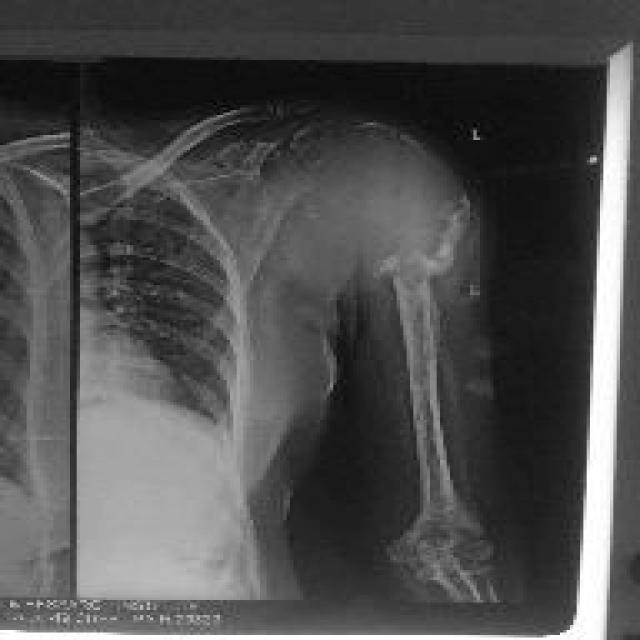bone-cancer: (253, 118, 463, 289)
